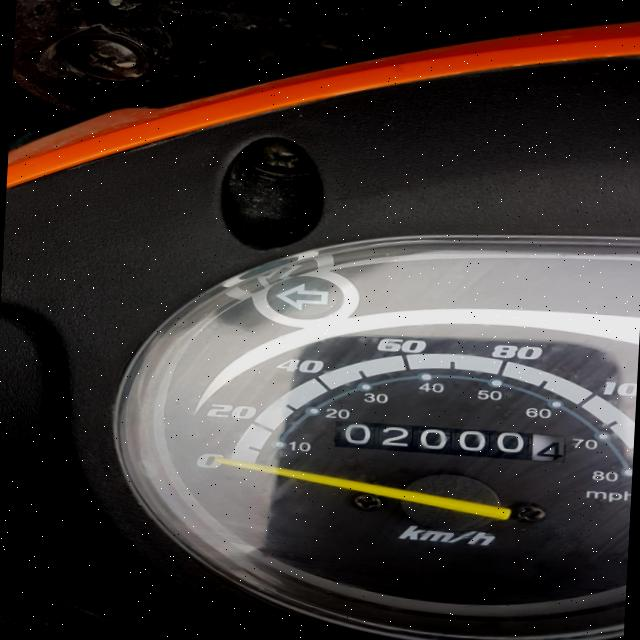odometer: (329, 418, 572, 464)
